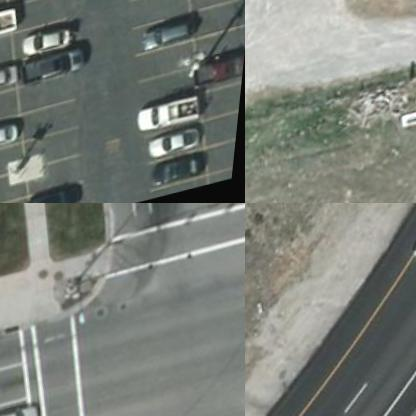car: (136, 15, 204, 54), (140, 96, 208, 134), (150, 125, 214, 159), (157, 152, 220, 186), (30, 44, 92, 78), (199, 52, 244, 92), (26, 23, 81, 55), (29, 182, 93, 202), (0, 113, 33, 148), (0, 396, 51, 415), (0, 5, 24, 45), (0, 62, 27, 96)
